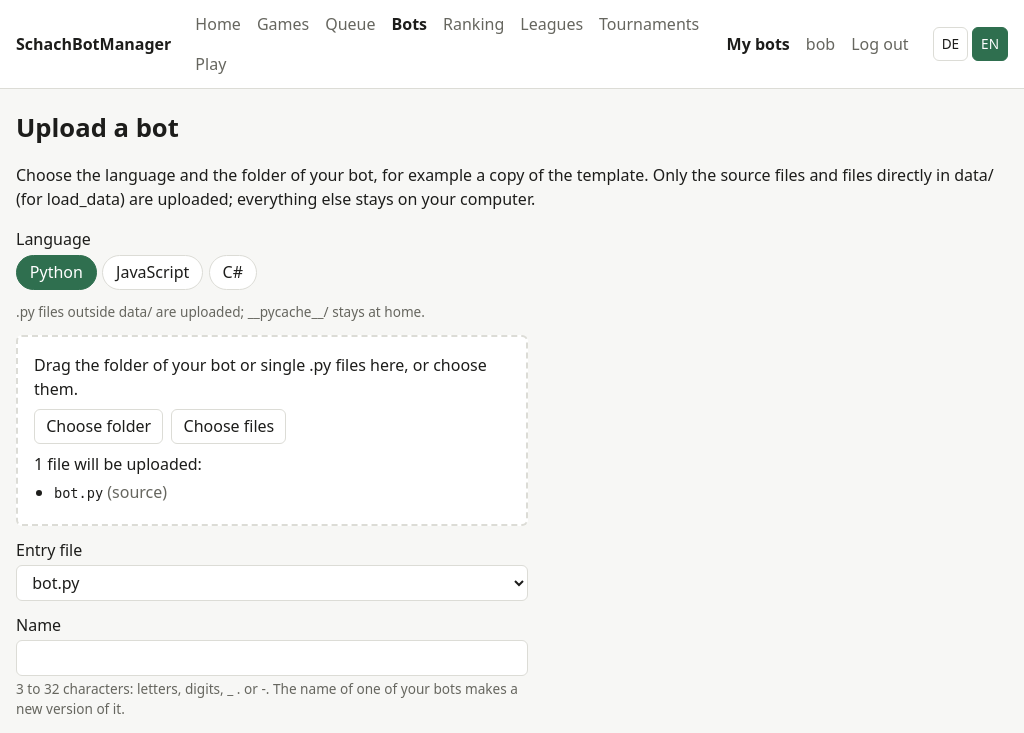
Test case: upload page › names the file that breaks a rule
Earlier steps of the test are not shown.
Type "Sharp" into the field labelled "Name" at (272, 658), box [16,640,528,676]
(page scrolled)
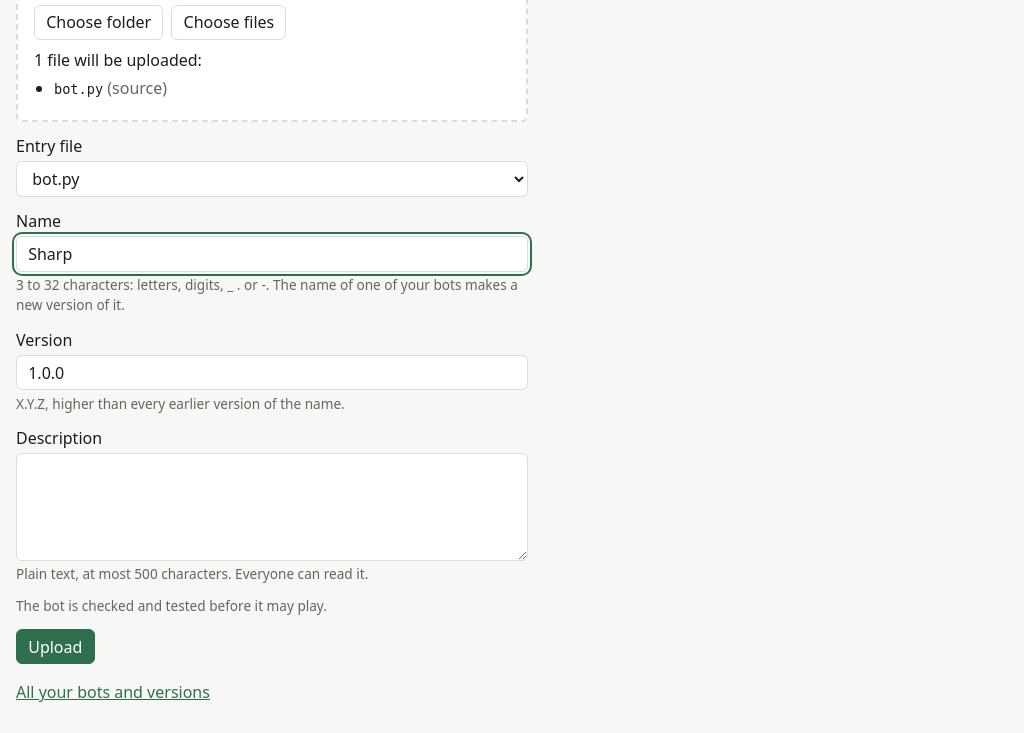
Click the button "Upload" at (55, 647), box [16,629,94,664]
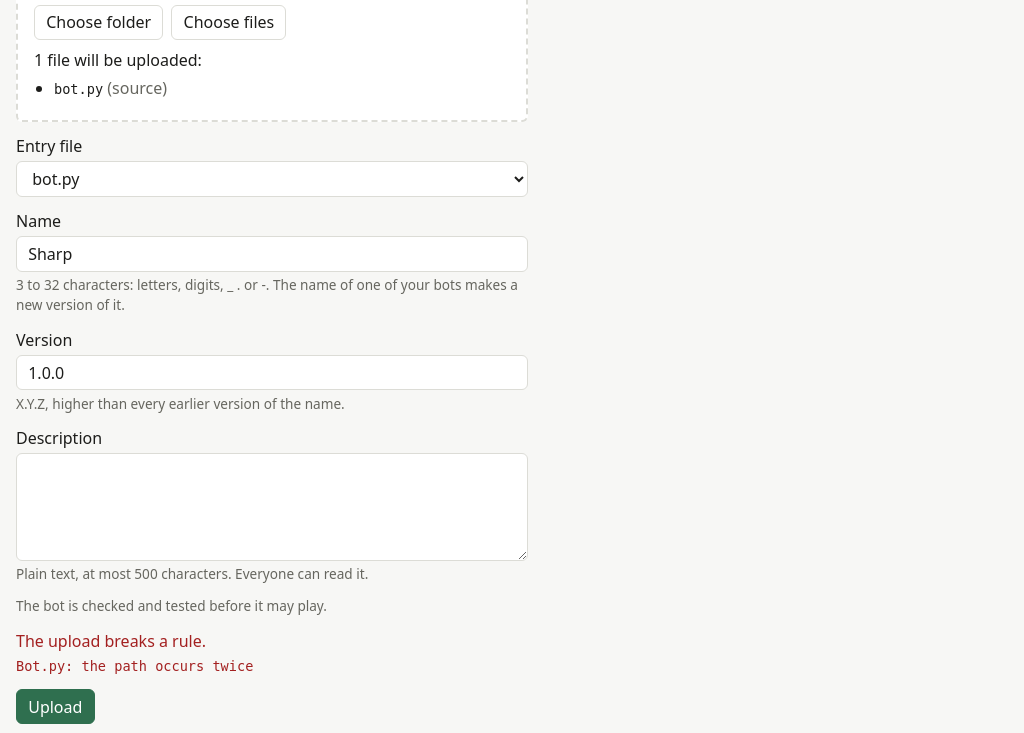
Expected: the message shows "The upload breaks a rule.", [16,630,206,652]
Expected: the message shows "Bot.py: the path occurs twice", [16,658,253,674]
